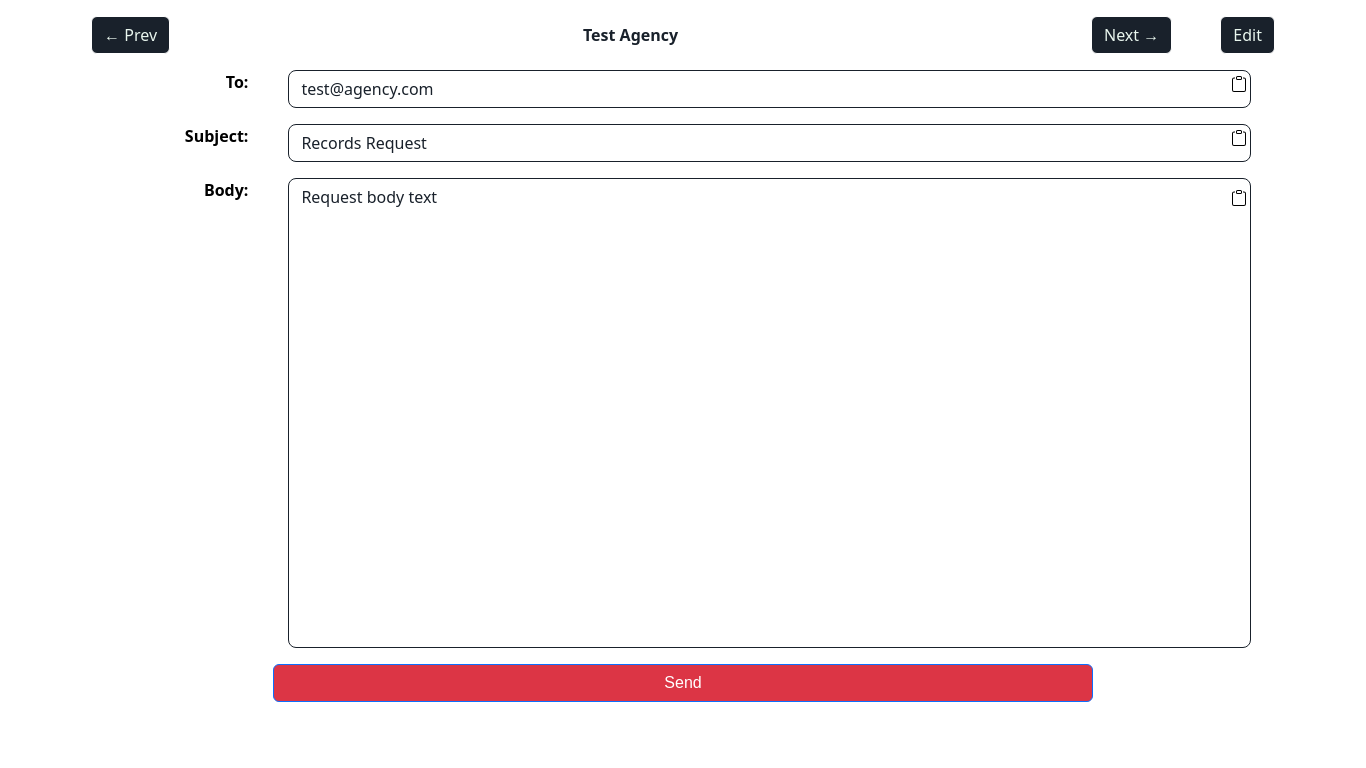
Test: SendHome Component › closes modal when clicking No
This screenshot has width=1366, height=768.
Click the button "Send" at [683, 683], box [273, 664, 1093, 702]
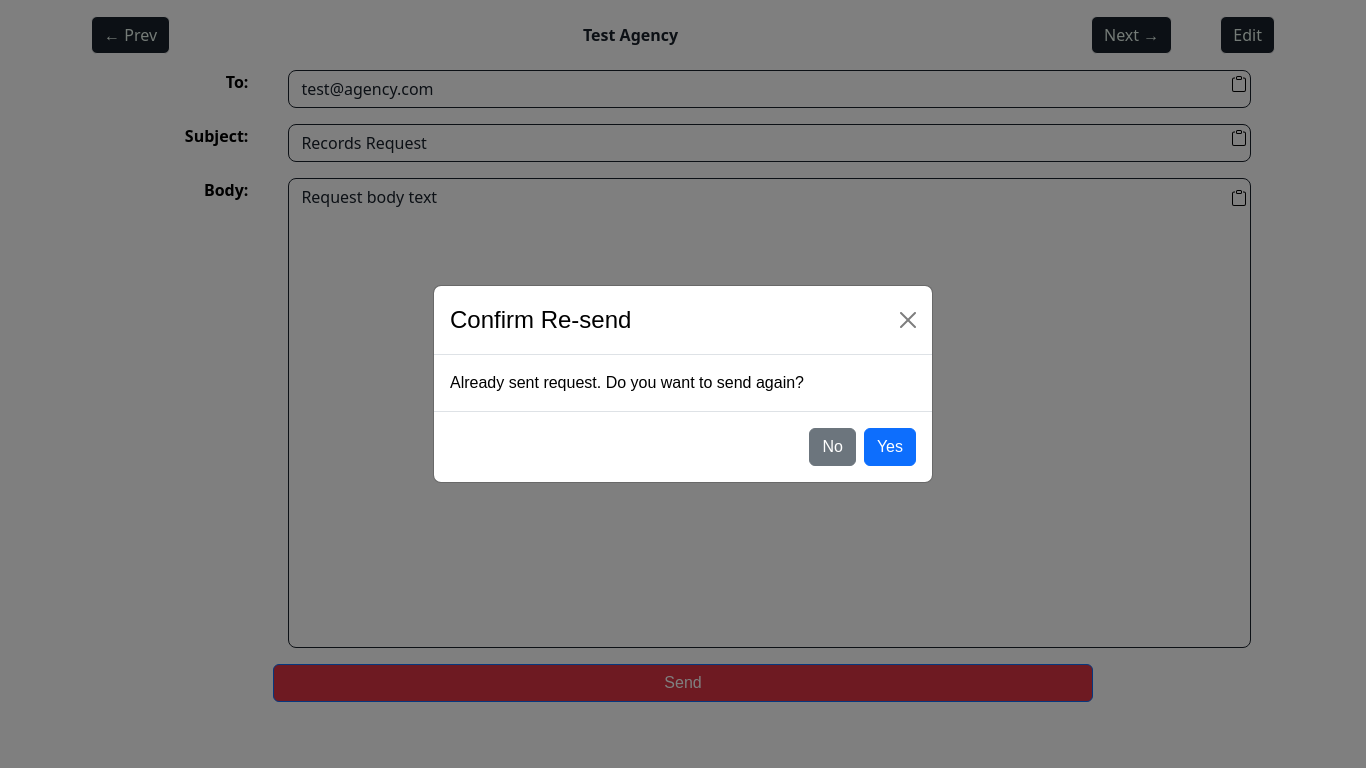
Click the button "No" at [833, 447], box [809, 428, 856, 466]
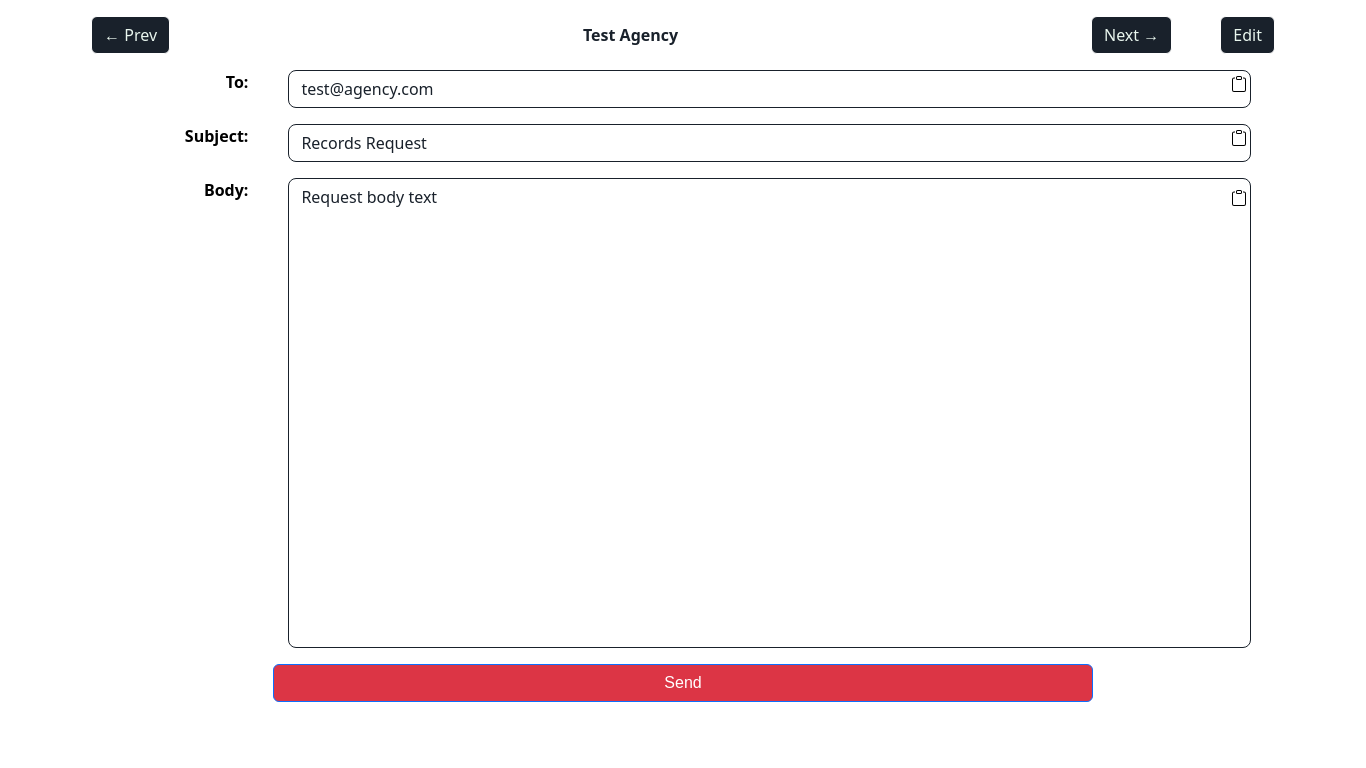
Expected: the text "Confirm Re-send" is gone
